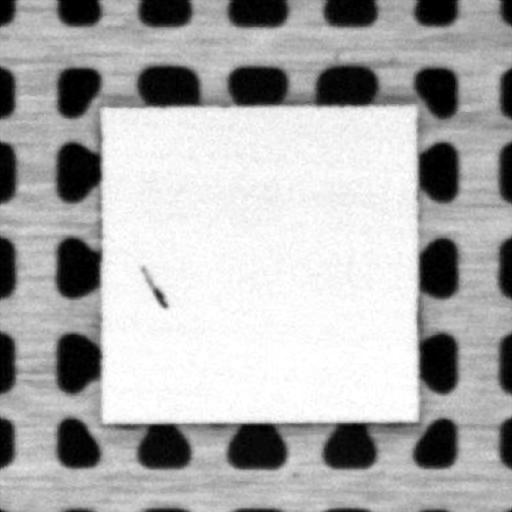DIE_INK: (139, 265, 164, 308)
